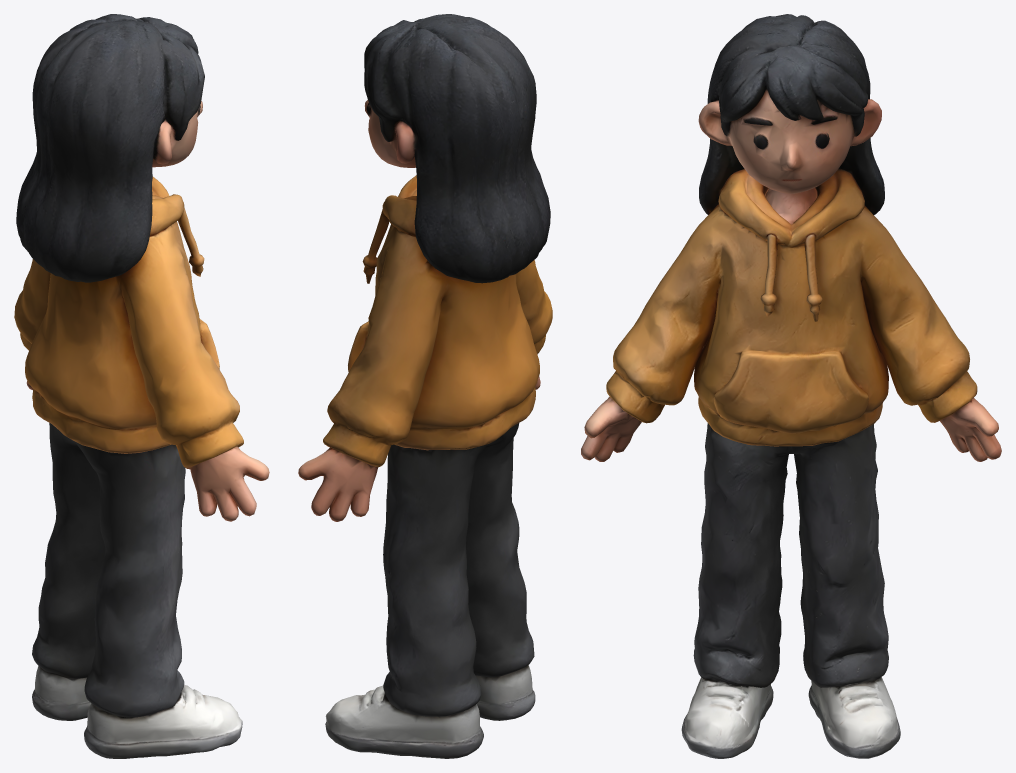
File: haru_full.glb
The picture shows the model from 3 angles, left to right: view 1: azimuth 30°, elevation 25°; view 2: azimuth 150°, elevation 25°; view 3: azimuth 270°, elevation 25°; orthographic projection.
Parts seen in each view (by area): view 1: tripo_node_5355f77b-438a-4f10-acb0-54f5e2d02f22; view 2: tripo_node_5355f77b-438a-4f10-acb0-54f5e2d02f22; view 3: tripo_node_5355f77b-438a-4f10-acb0-54f5e2d02f22.
Part boxes in pixels (bbox=[...]): tripo_node_5355f77b-438a-4f10-acb0-54f5e2d02f22: bbox=[14, 14, 269, 758]; tripo_node_5355f77b-438a-4f10-acb0-54f5e2d02f22: bbox=[298, 14, 552, 758]; tripo_node_5355f77b-438a-4f10-acb0-54f5e2d02f22: bbox=[581, 14, 1001, 758].
Size of the model in its own units: 0.253 by 1 by 0.5446.
Materials: 1 (1 with a texture image).
